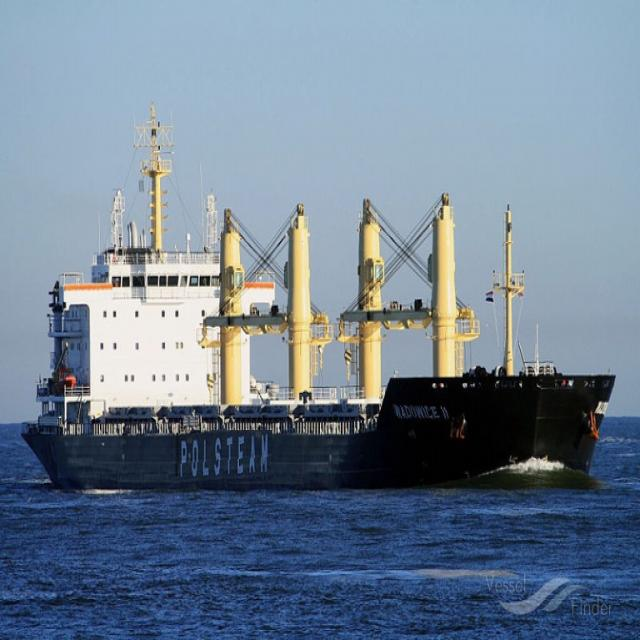OCR: (174, 430, 272, 488), (388, 391, 454, 422)
